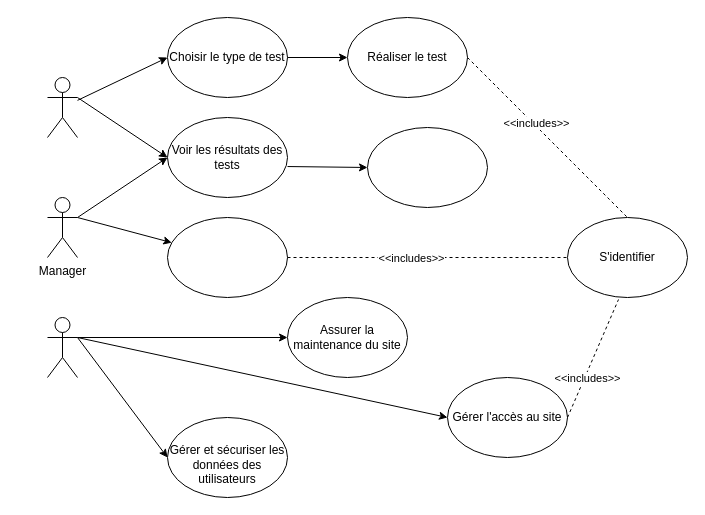
Some shapes in this 705 by 515 pixel diagram are drawn without their labels. Here are the shapes that lost their labels. From the top down, the box of each, then its label:
(46, 76, 78, 138): Joueur
(366, 126, 488, 208): Exporter les résultats des tests
(166, 216, 288, 298): Programmer des séances de tests
(46, 316, 78, 378): Infinite Measures
